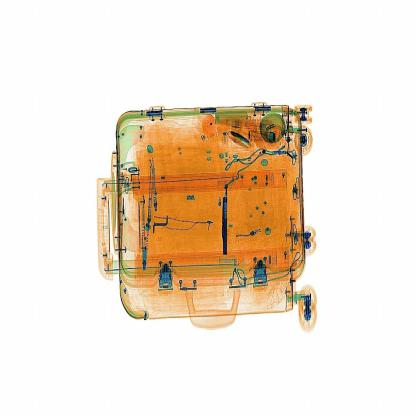pliers: (218, 186, 234, 259)
